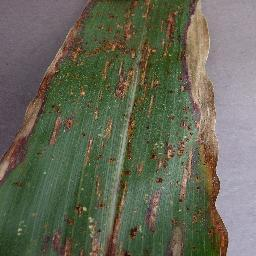Corn_Blight: (151, 2, 227, 256), (2, 0, 95, 147), (97, 1, 149, 219), (42, 192, 104, 256), (105, 221, 142, 255), (0, 147, 25, 193)
